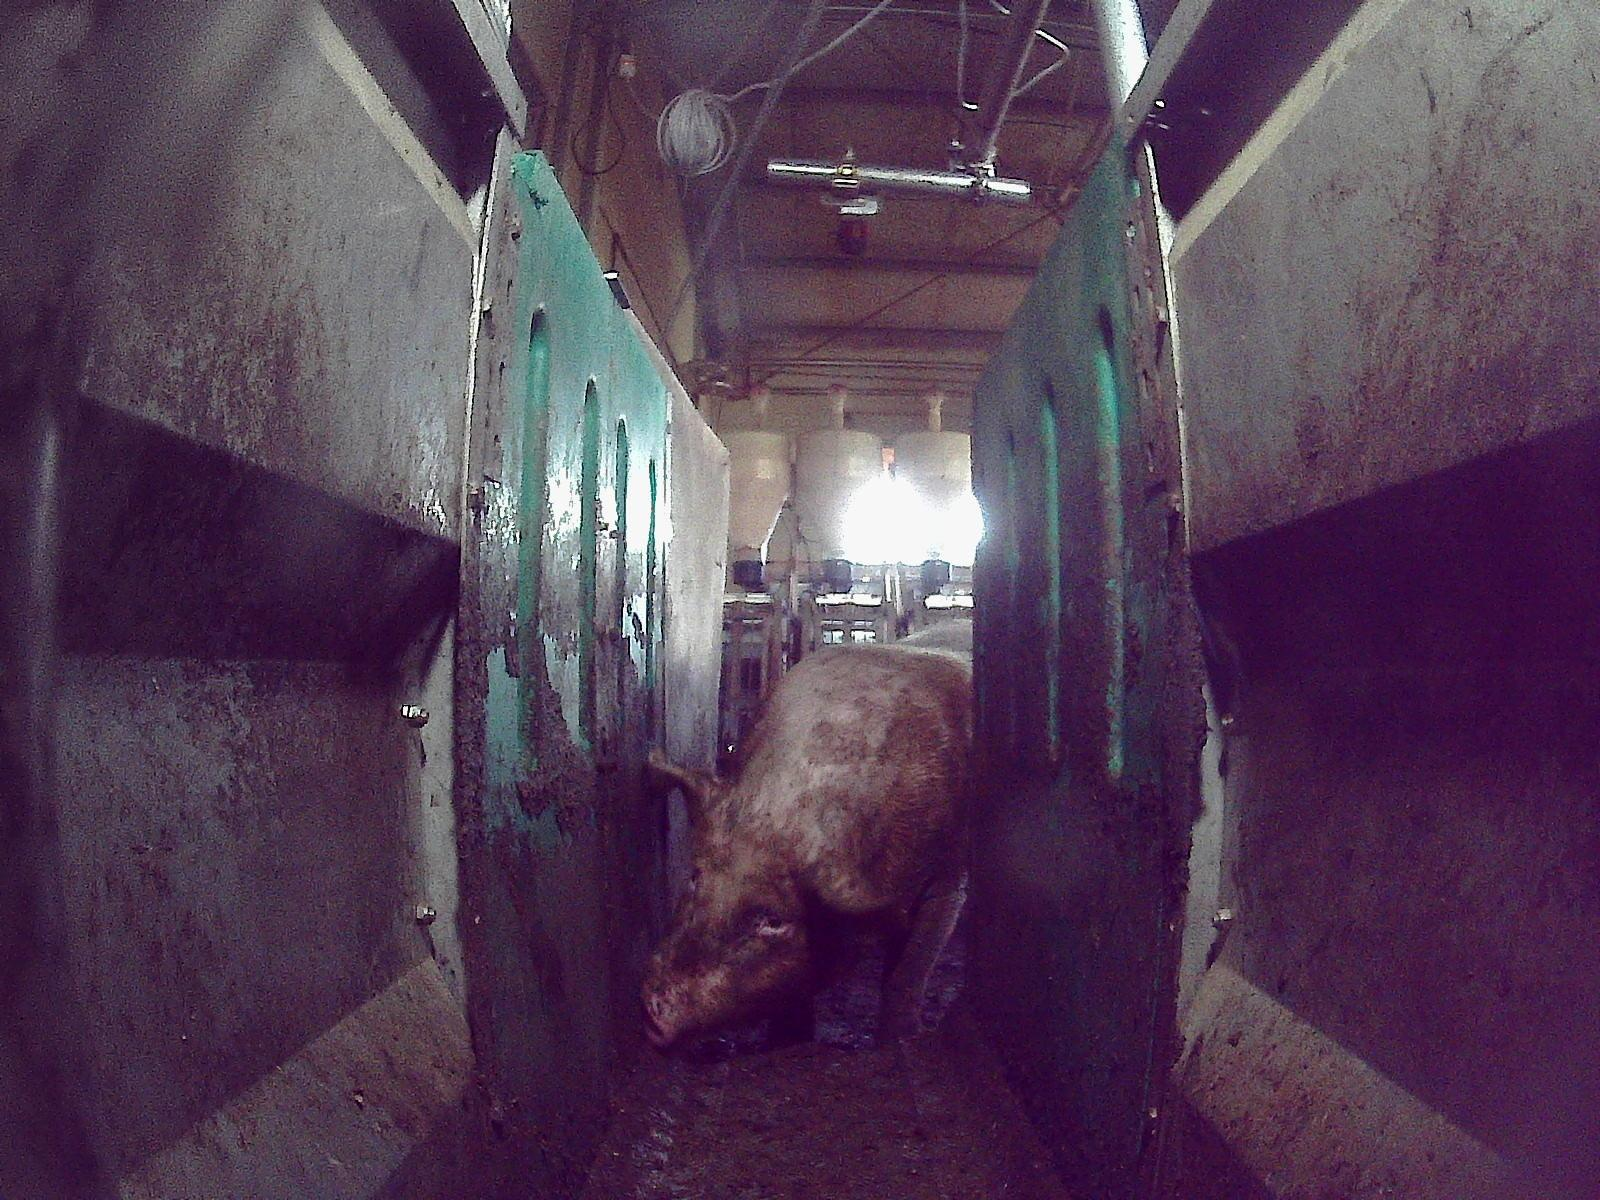Face: (634, 797, 850, 1048)
